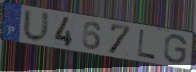4: (53, 15, 75, 49)
6: (81, 21, 103, 51)
7: (108, 22, 132, 55)
G: (163, 33, 189, 66)
L: (137, 28, 158, 61)
U: (21, 8, 51, 44)
